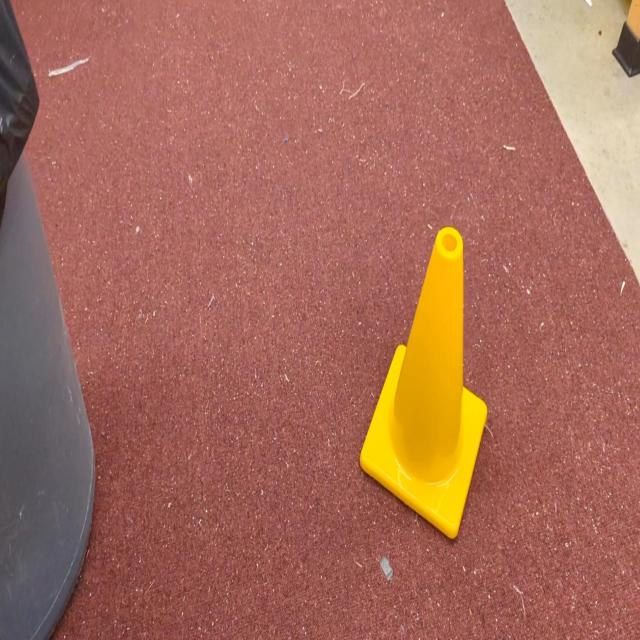frc_cone: (358, 219, 489, 542)
